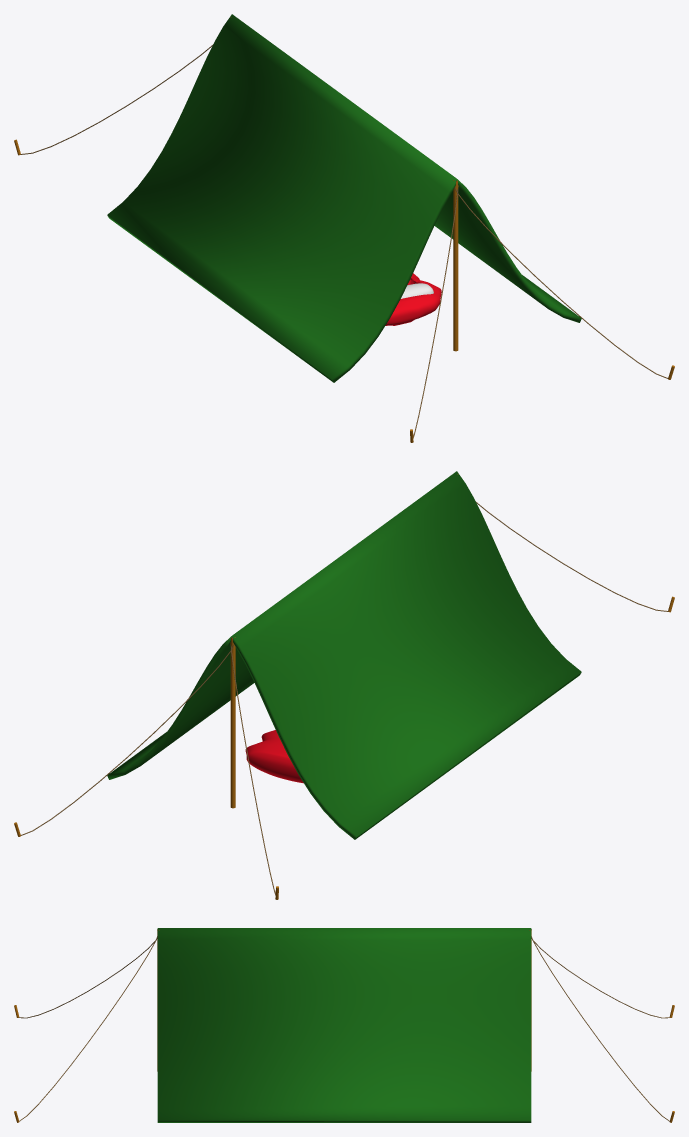
Rendered from tent.glb.
3 renders of one model, top to bottom at view 1: azimuth 30°, elevation 25°; view 2: azimuth 150°, elevation 25°; view 3: azimuth 270°, elevation 25°, orthographic. The views are drawn at different scales.
Parts seen in each view (by area): view 1: BézierCurve, Cube, BézierCurve.001, Cylinder.002; view 2: BézierCurve, Cube, BézierCurve.001, Cylinder.002; view 3: BézierCurve, BézierCurve.001.
Boxes of the visible parts, left/top/right/bottom form: BézierCurve: left=107, top=14, right=581, bottom=382; Cube: left=385, top=273, right=441, bottom=325; BézierCurve.001: left=20, top=45, right=667, bottom=438; Cylinder.002: left=230, top=17, right=458, bottom=351; BézierCurve: left=107, top=471, right=581, bottom=839; Cube: left=245, top=730, right=303, bottom=783; BézierCurve.001: left=21, top=502, right=668, bottom=895; Cylinder.002: left=230, top=474, right=458, bottom=808; BézierCurve: left=157, top=928, right=531, bottom=1122; BézierCurve.001: left=18, top=929, right=670, bottom=1121.
Size of the model in its own units: 5.97 by 3.76 by 15.52.
